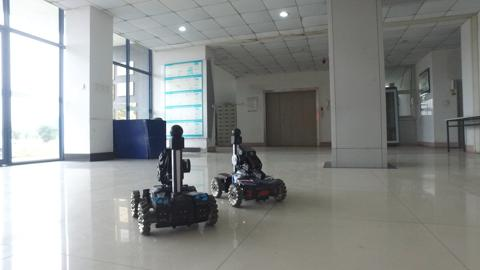chariot: (121, 121, 220, 242), (205, 121, 289, 211)
